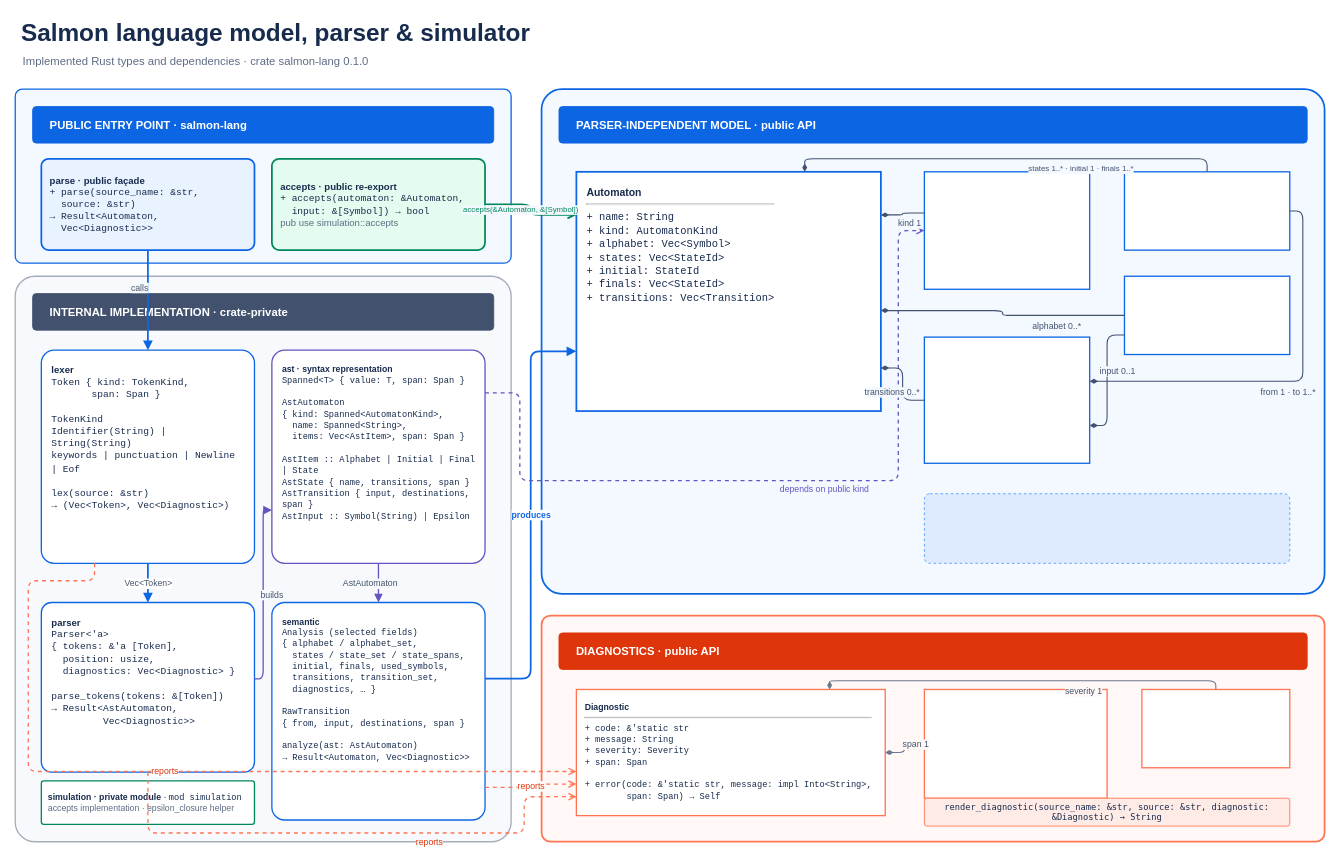
Image size: 1341x861. Some labels were removed from this diagram. The shapes that lost their labels are listed below. From the top down, each one's box as (x1, y1, x2, y2) in pixels, then its label:
(923, 171, 1090, 290): «enum» AutomatonKind Dfa Nfa Enfa
(1123, 171, 1290, 250): StateId + 0: String
(1123, 275, 1290, 355): Symbol + 0: String
(923, 336, 1090, 464): Transition + from: StateId + input: Option<Symbol> + to: Vec<StateId>
(924, 493, 1290, 563): Stable boundary No lexer, AST, parser, or semantic types leak into this model.
(923, 688, 1107, 798): Span + start: usize + end: usize + new(start: usize, end: usize) → Self
(1141, 688, 1290, 768): «enum» Severity Error
